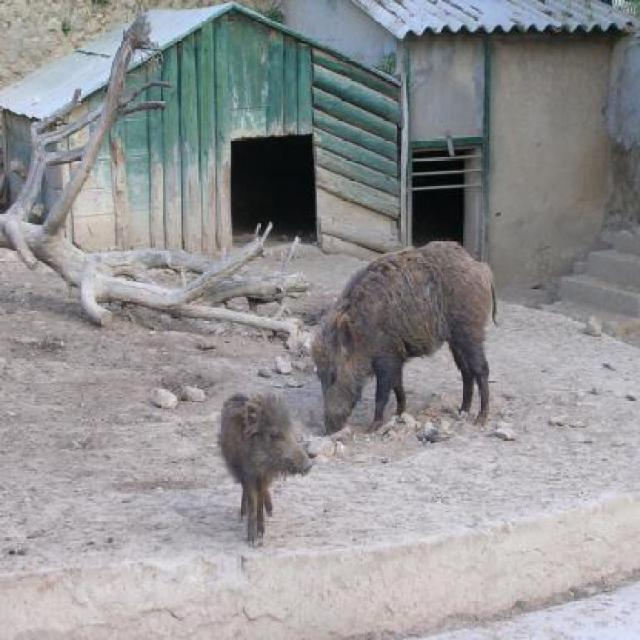pig: (306, 236, 500, 448), (215, 392, 312, 550)
